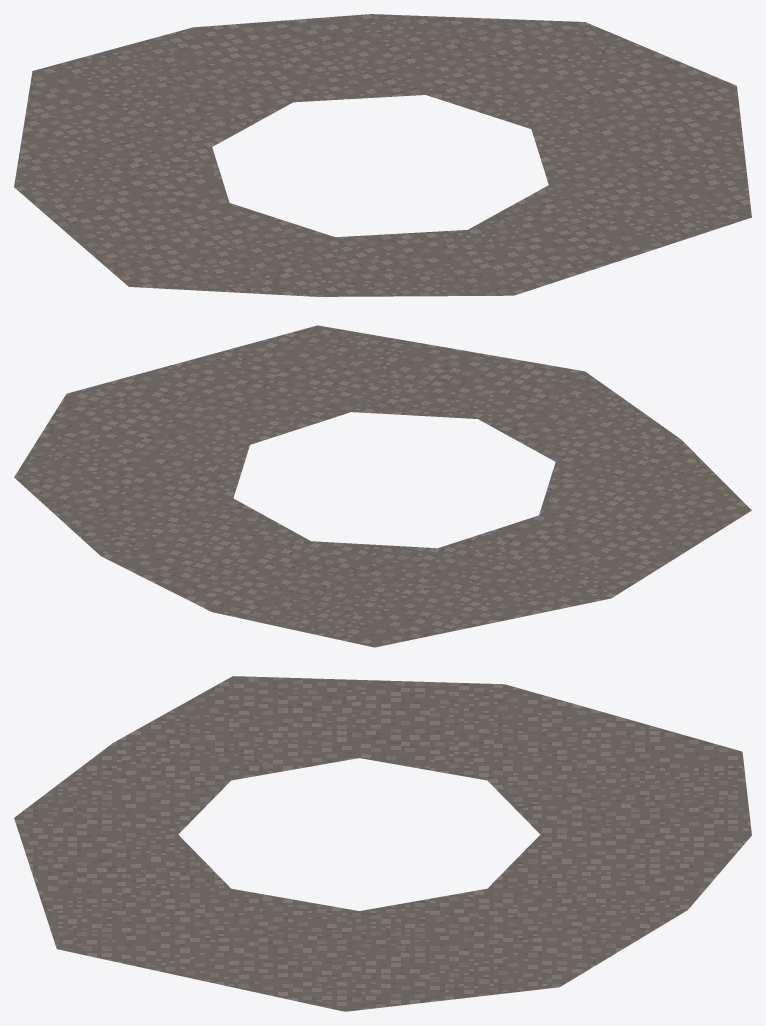
The model's file is kd_stage_135c43_4_139_bounded_piece_0.glb.
3 renders of one model, top to bottom at view 1: azimuth 30°, elevation 25°; view 2: azimuth 150°, elevation 25°; view 3: azimuth 270°, elevation 25°, orthographic. The views are drawn at different scales.
Visible parts, largest first — view 1: kd_stage_135c43_4_139_bounded_piece_0; view 2: kd_stage_135c43_4_139_bounded_piece_0; view 3: kd_stage_135c43_4_139_bounded_piece_0.
Part boxes in pixels (x1,y1,x2,y2): kd_stage_135c43_4_139_bounded_piece_0: (14,14,751,296); kd_stage_135c43_4_139_bounded_piece_0: (14,325,751,647); kd_stage_135c43_4_139_bounded_piece_0: (14,676,751,1011).
Bounding box in the file's own units: 0.4388 × 0 × 0.4076.
1 material, 1 textured.
